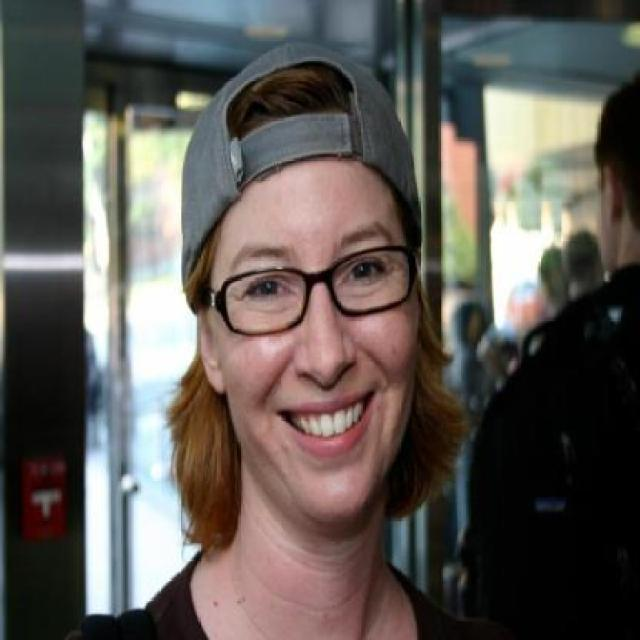awake: (336, 254, 386, 291), (244, 274, 291, 301)
